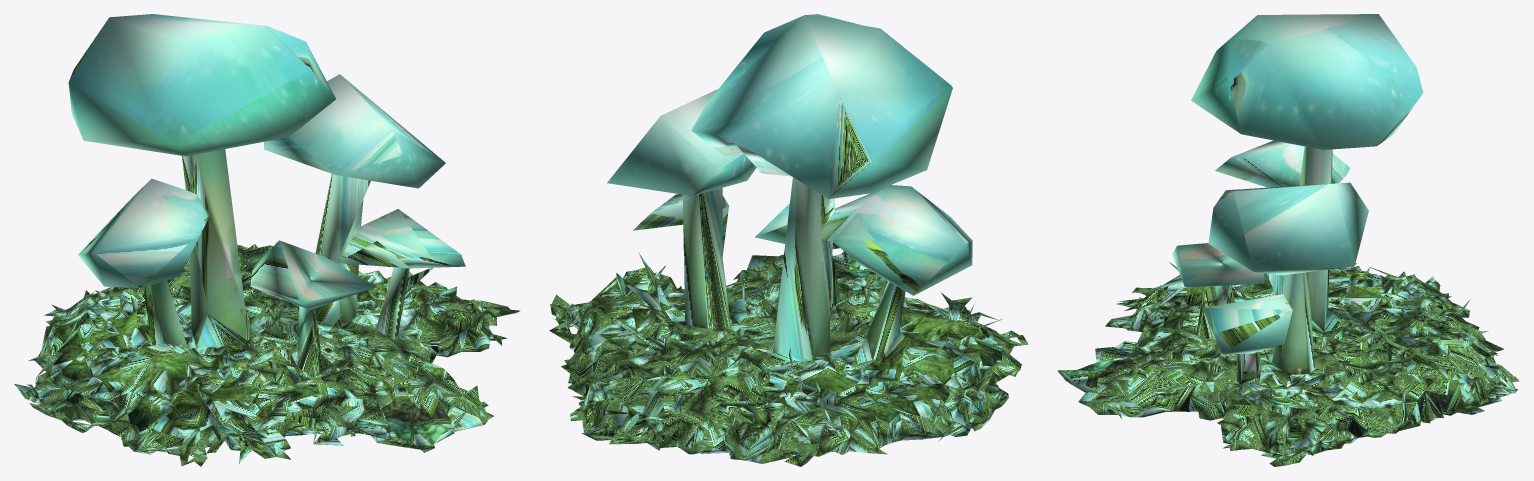
File: mystic-mushrooms.glb
The picture shows the model from 3 angles, left to right: view 1: azimuth 30°, elevation 25°; view 2: azimuth 150°, elevation 25°; view 3: azimuth 270°, elevation 25°; orthographic projection. The views are drawn at different scales.
Size of the model in its own units: 1.84 by 1.35 by 1.78.
Materials: 1 (1 with a texture image).
